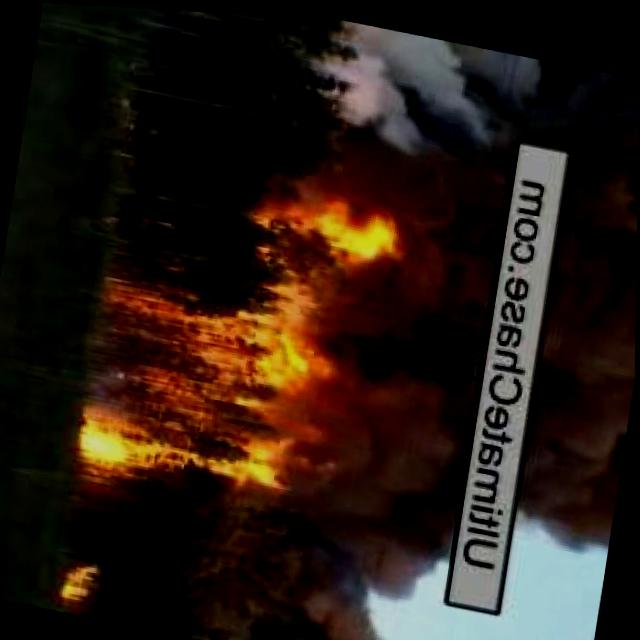helmet: (66, 272, 326, 514), (258, 181, 416, 262), (58, 551, 107, 615)
no_helmet: (239, 11, 534, 640), (515, 59, 640, 571)
